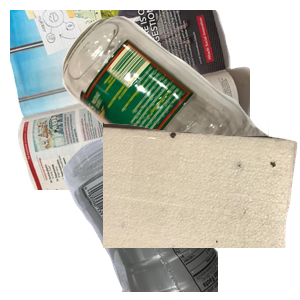glass: (60, 14, 300, 194)
paper: (10, 10, 250, 190)
plastic: (60, 120, 300, 300)
trash: (103, 120, 300, 300)
